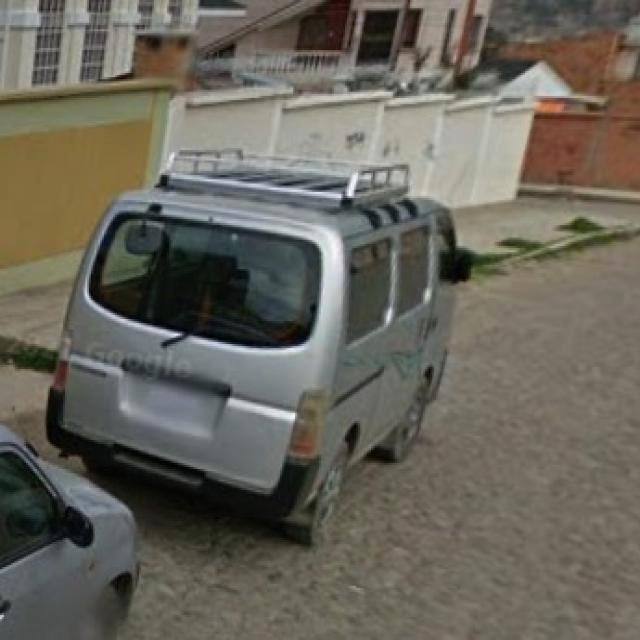car: (69, 169, 468, 525)
